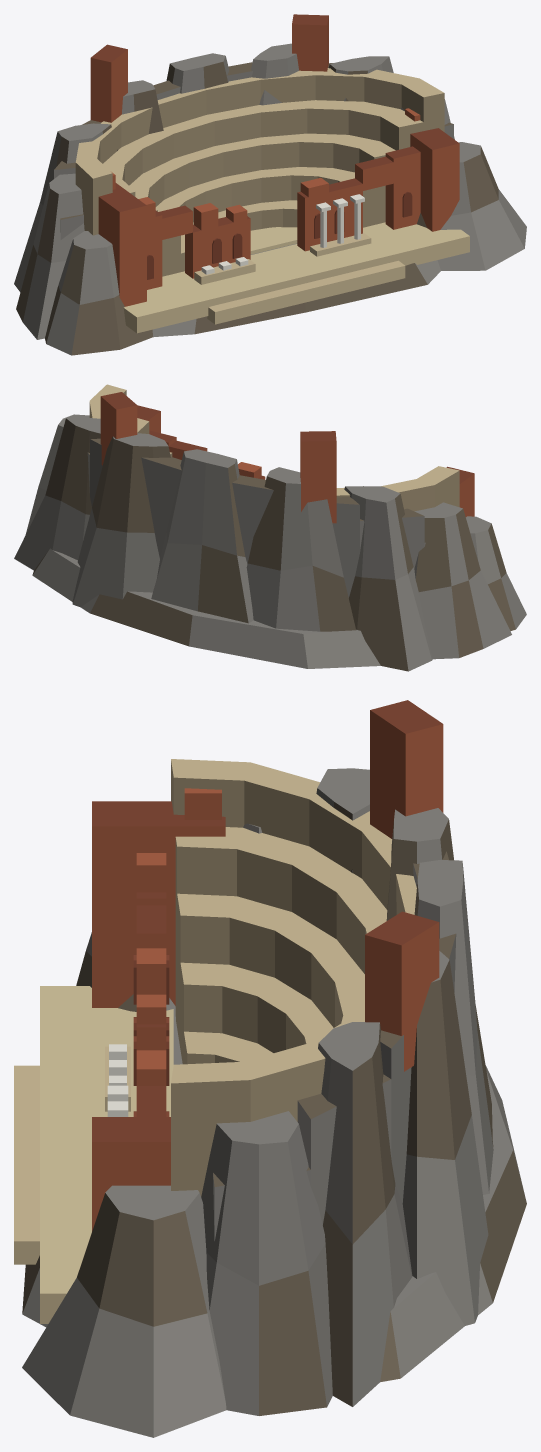
File: taormina.glb
3 views of the same model, one above another, from view 1: azimuth 30°, elevation 25°; view 2: azimuth 150°, elevation 25°; view 3: azimuth 270°, elevation 25° (orthographic). The views are drawn at different scales.
Parts seen in each view (by area): view 1: POI_taormina; view 2: POI_taormina; view 3: POI_taormina.
Part boxes in pixels (bbox=[...]): POI_taormina: bbox=[14, 14, 526, 355]; POI_taormina: bbox=[14, 384, 526, 671]; POI_taormina: bbox=[14, 700, 526, 1437].
Size of the model in its own units: 142 by 59 by 69.09.
